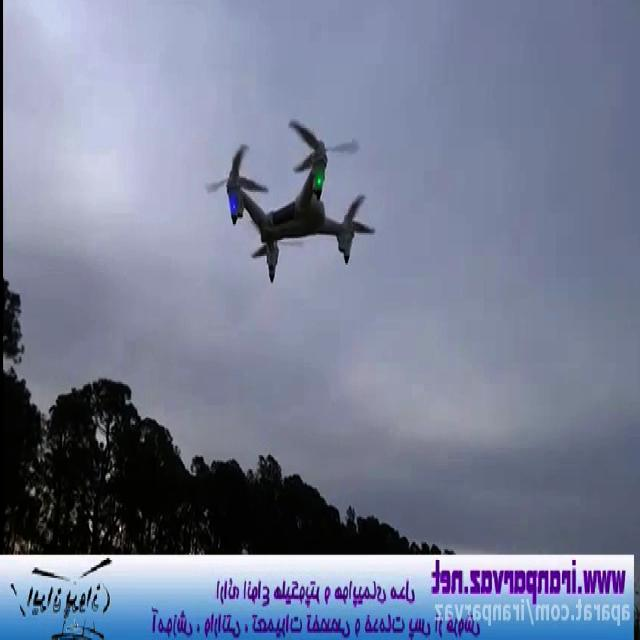drone: (204, 110, 382, 290)
